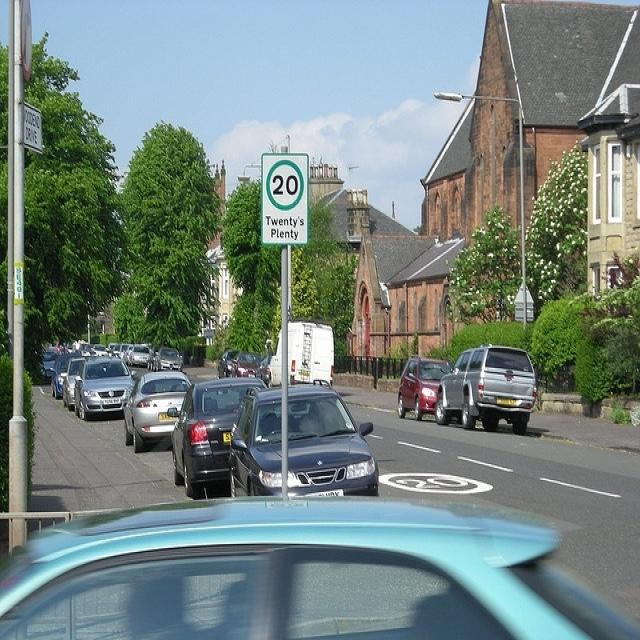forb_speed_over_20: (267, 155, 305, 207)
